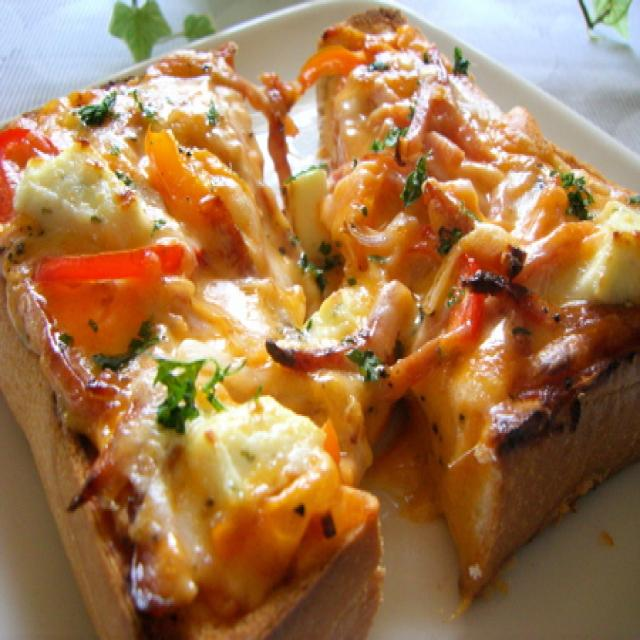面包点心: (0, 11, 624, 624)
